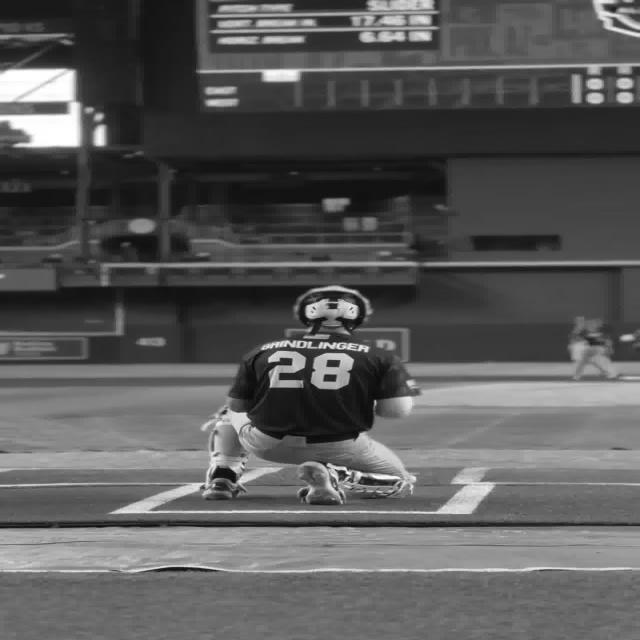baseball: (618, 334, 634, 342)
shoe: (296, 461, 346, 505), (201, 466, 243, 500)
